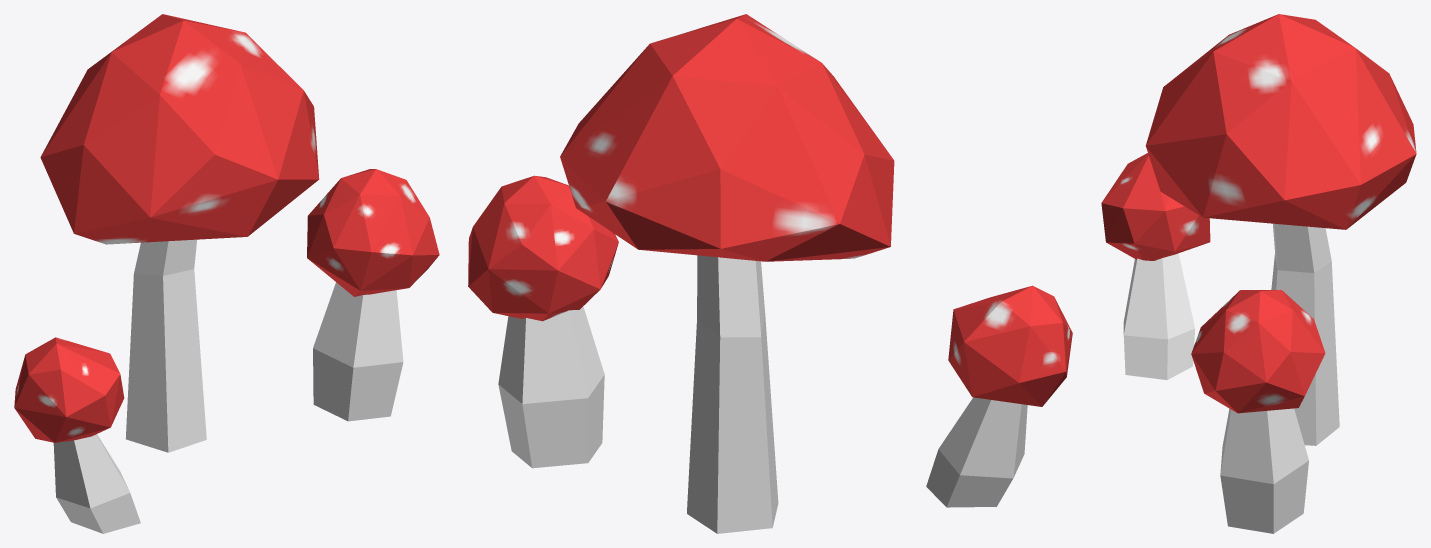
Rendered from Mushroom_e_07.fbx.
3 views of the same model, side by side, from view 1: azimuth 30°, elevation 25°; view 2: azimuth 150°, elevation 25°; view 3: azimuth 270°, elevation 25° (orthographic). The views are drawn at different scales.
Parts seen in each view (by area): view 1: Mushroom_e_07; view 2: Mushroom_e_07; view 3: Mushroom_e_07.
Part boxes in pixels (left/top/right/bottom): Mushroom_e_07: left=14, top=14, right=439, bottom=533; Mushroom_e_07: left=468, top=14, right=1072, bottom=533; Mushroom_e_07: left=1101, top=14, right=1416, bottom=533.
Size of the model in its own units: 41.61 by 36.24 by 24.42.
